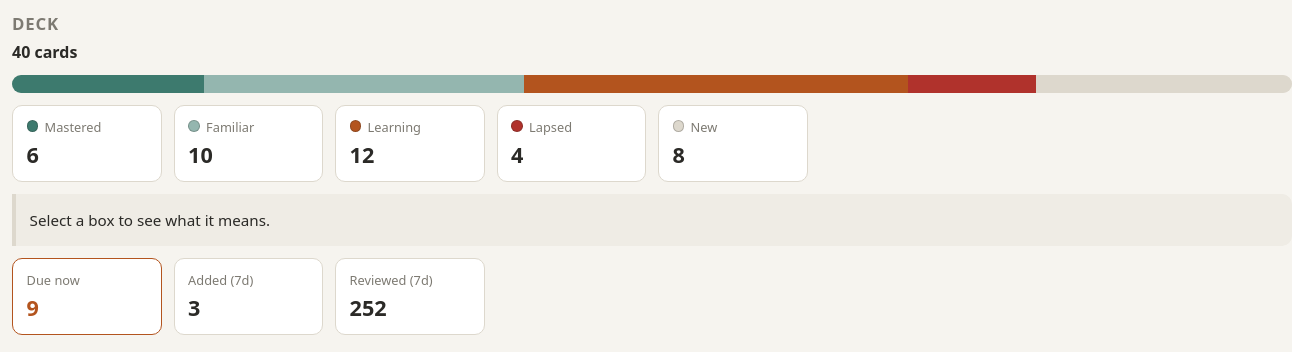
DeckSection › clears the selection when the same box is clicked again
Click the button "Learning 12" at x=410, y=144, box [335,105,484,182]
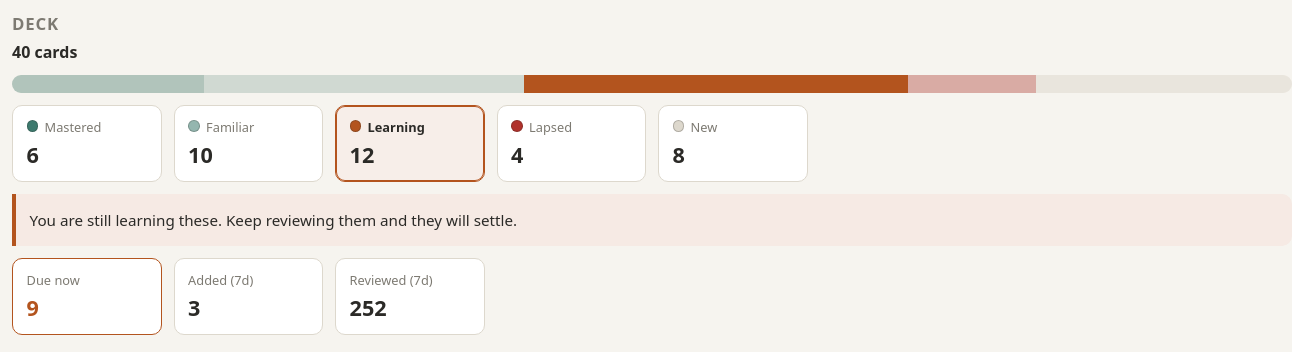
Click the button "Learning 12" at x=410, y=144, box [335,105,484,182]
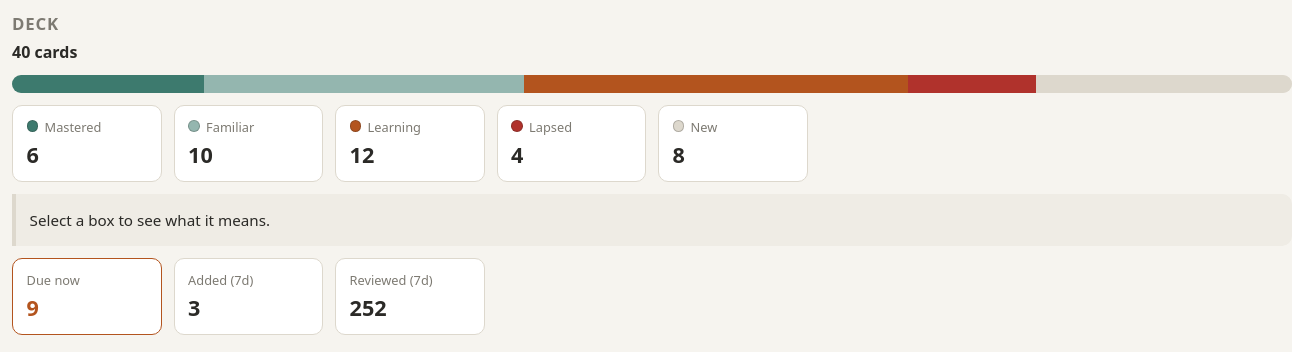
Check: the text "Select a box to see what it means." is shown, box [12,194,1291,246]
